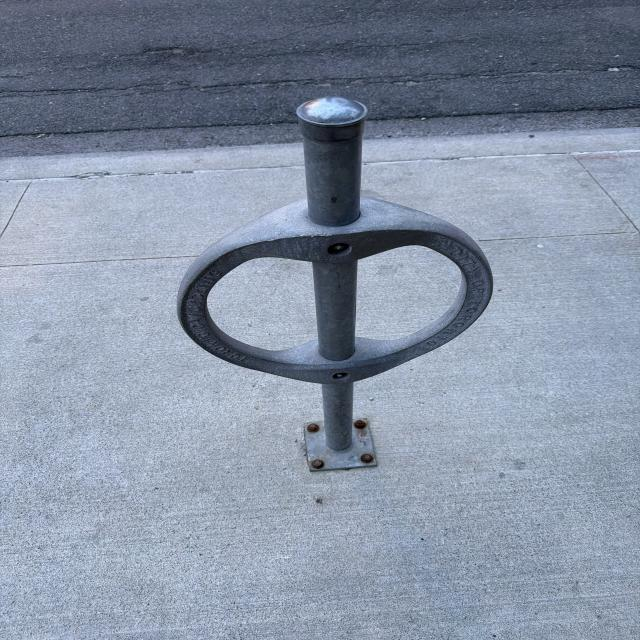Bicycle Rack: (177, 98, 493, 469)
